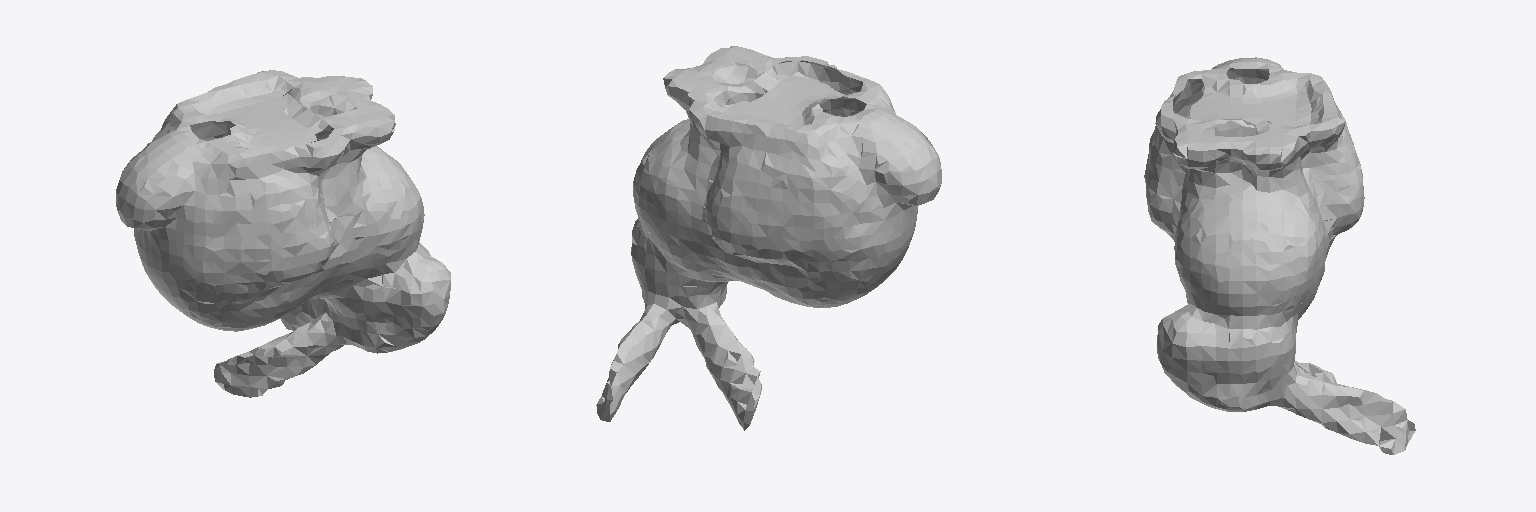
File: bunny-lr.obj
The picture shows the model from 3 angles: view 1: azimuth 30°, elevation 25°; view 2: azimuth 150°, elevation 25°; view 3: azimuth 270°, elevation 25°; orthographic projection.
Visible parts, largest first — view 1: bun_zipper_res3; view 2: bun_zipper_res3; view 3: bun_zipper_res3.
Boxes of the visible parts, box(x1,y1,x2,y2) form: bun_zipper_res3: box(116, 70, 450, 397); bun_zipper_res3: box(596, 46, 941, 430); bun_zipper_res3: box(1144, 57, 1415, 454).
Bounding box in the file's own units: 2.02 × 1.97 × 1.56.